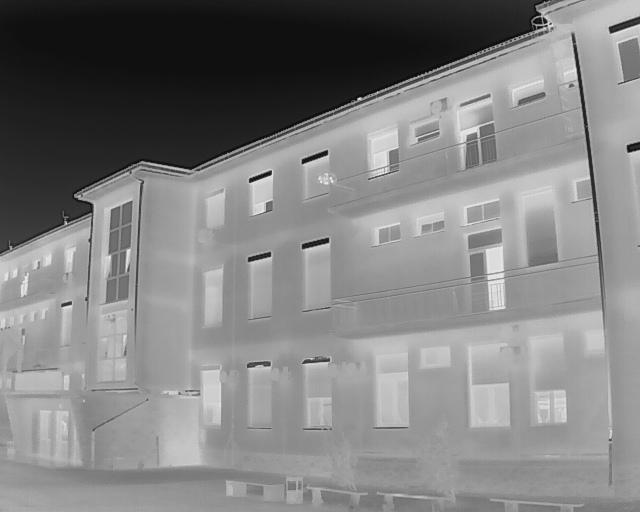drone: (312, 171, 338, 194)
